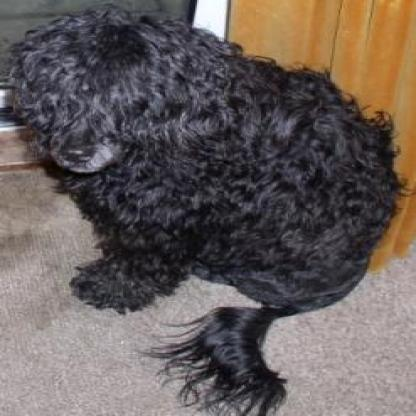Irish_water_spaniel: (2, 0, 401, 414)
